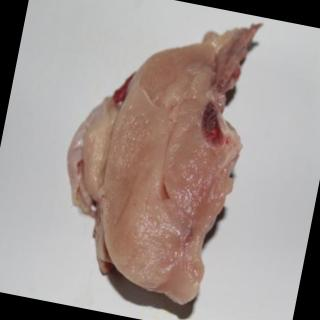Ayam: (47, 1, 266, 306)
